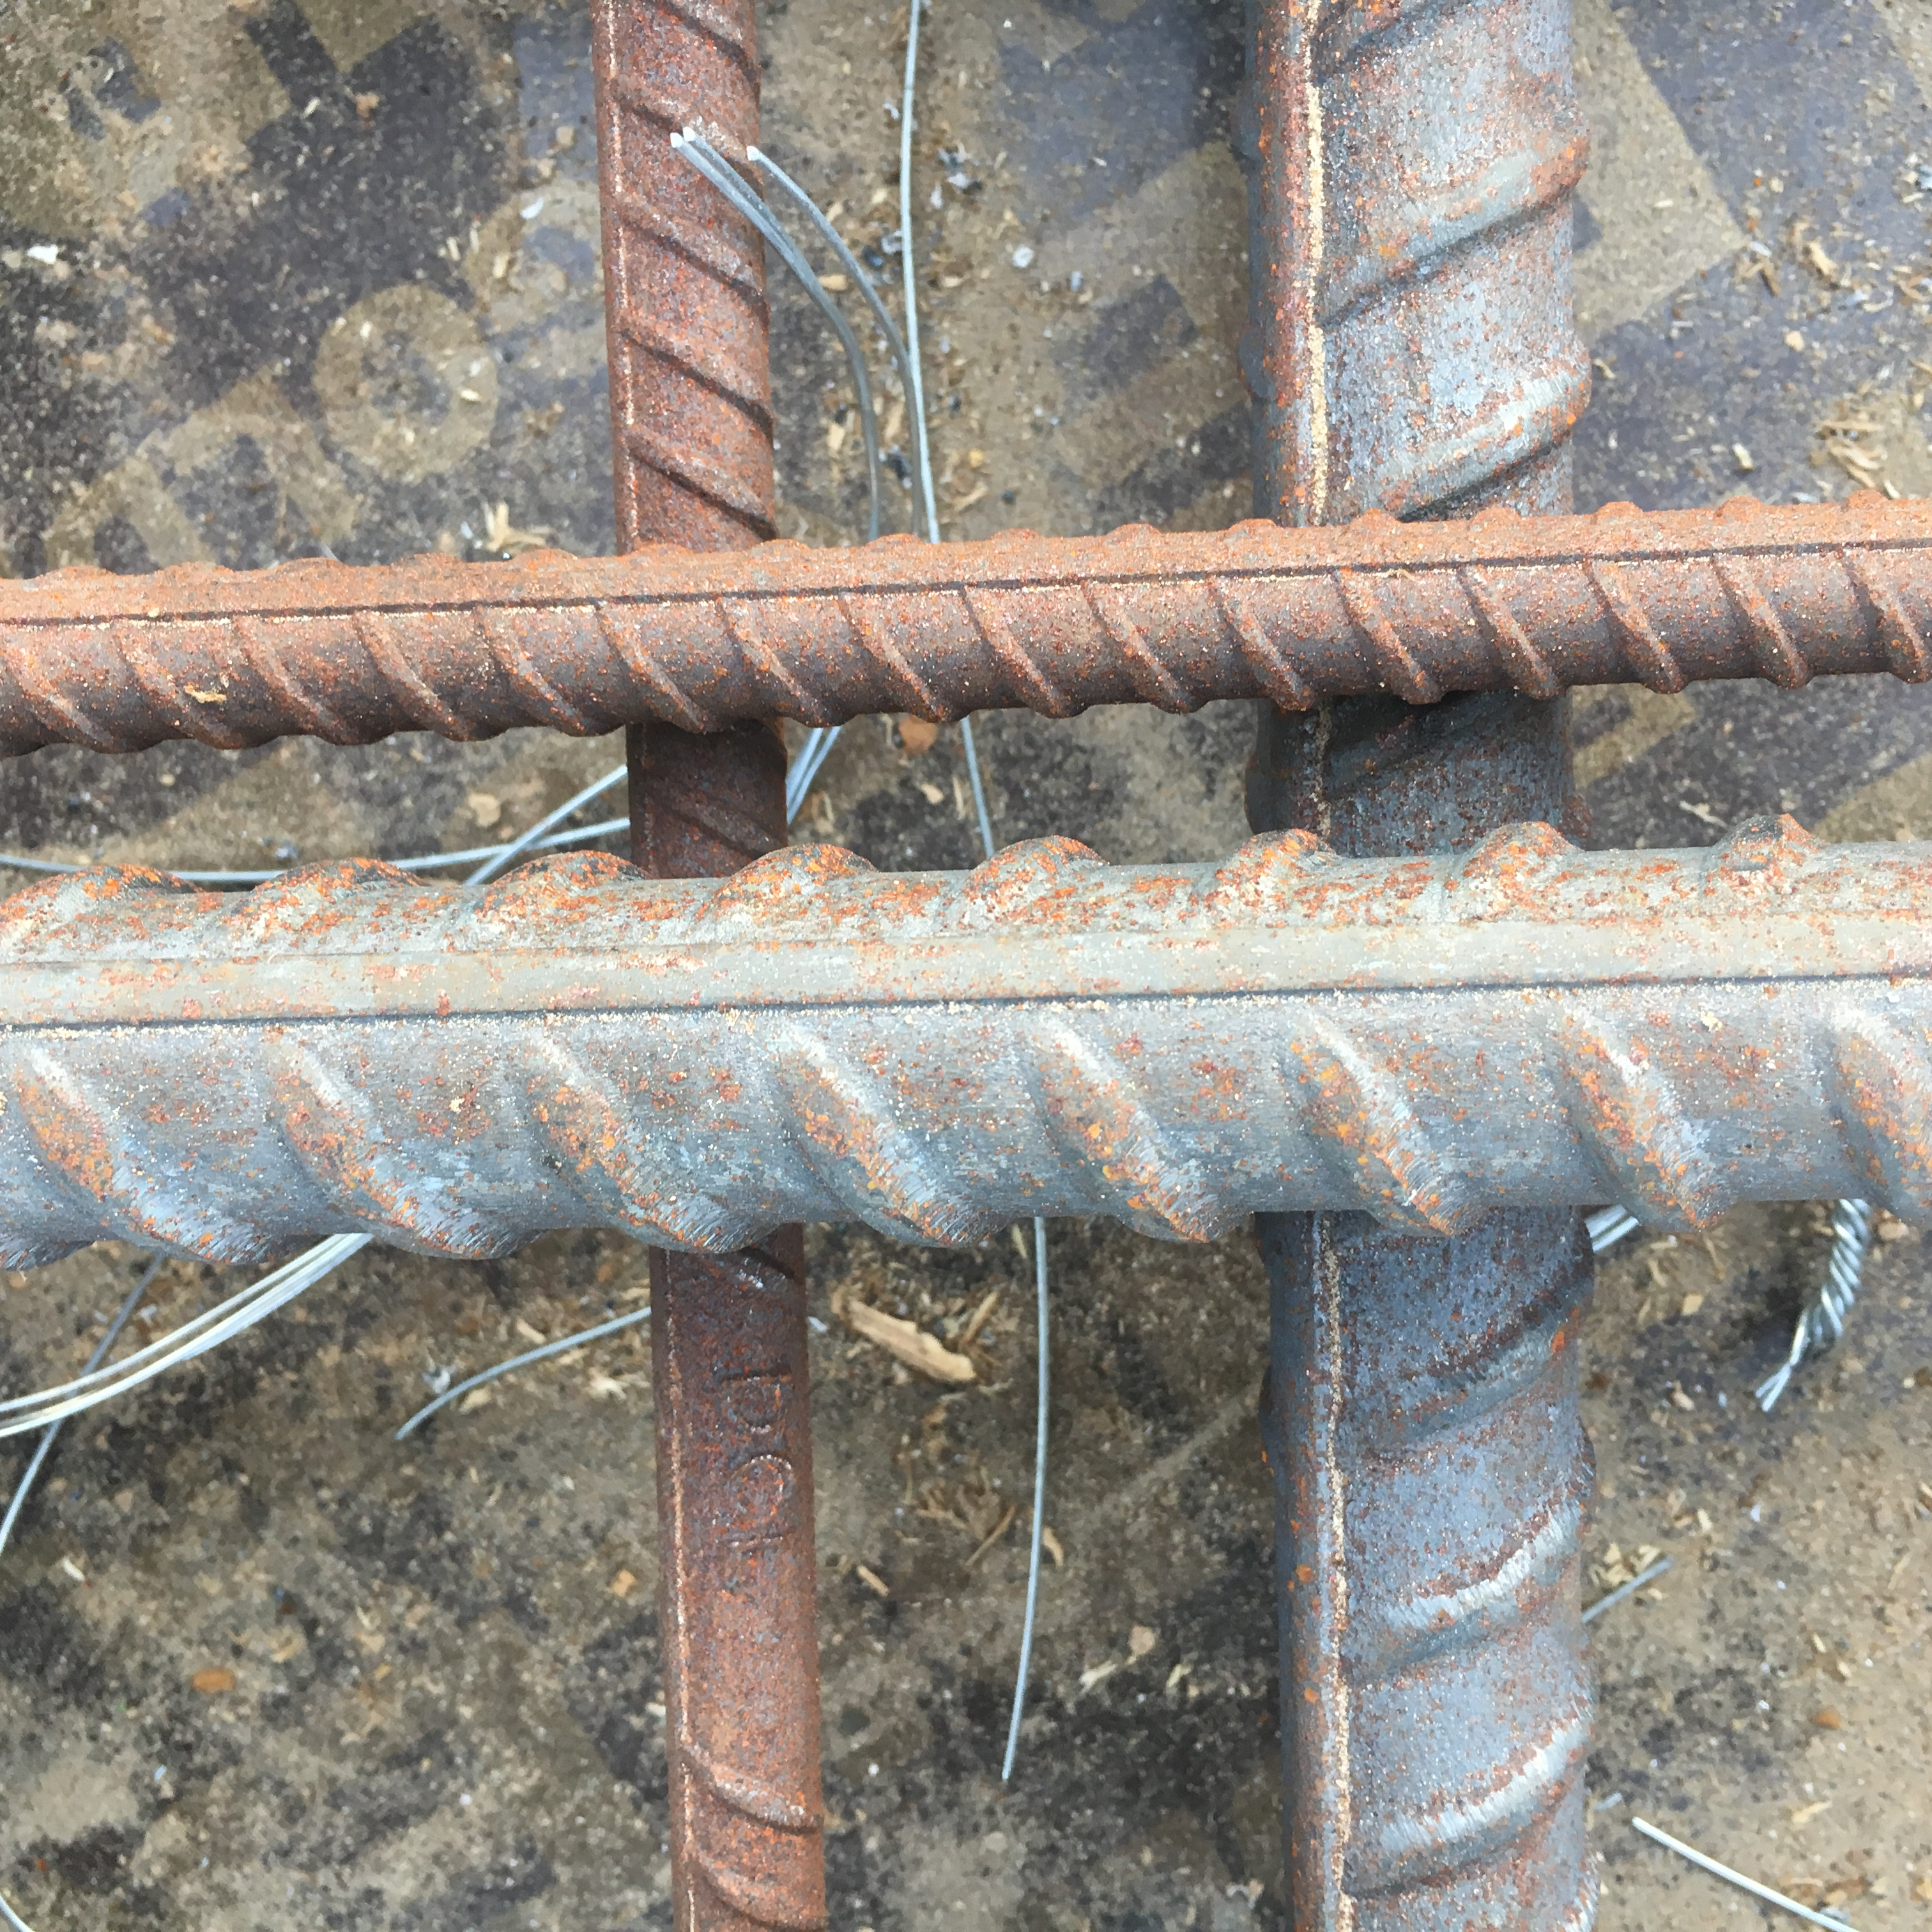rebar_untied: (349, 766, 1099, 1844), (1108, 720, 1863, 1732), (1033, 150, 1891, 793), (354, 127, 1008, 809)
